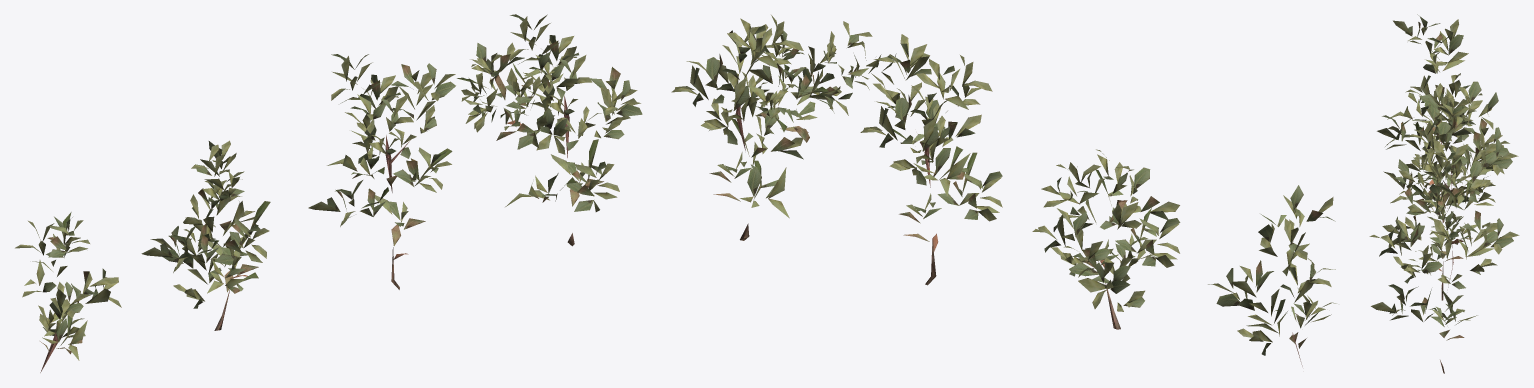
File: shrub_04.glb
The picture shows the model from 3 angles, left to right: view 1: azimuth 30°, elevation 25°; view 2: azimuth 150°, elevation 25°; view 3: azimuth 270°, elevation 25°; orthographic projection. The views are drawn at different scales.
Parts seen in each view (by area): view 1: shrub_04; view 2: shrub_04; view 3: shrub_04.
Part boxes in pixels (x1,y1,x2,y2): shrub_04: (15,14,642,372); shrub_04: (671,15,1336,366); shrub_04: (1369,14,1519,373).
Size of the model in its own units: 0.5837 by 0.2185 by 0.1461.
Materials: 1 (1 with a texture image).
